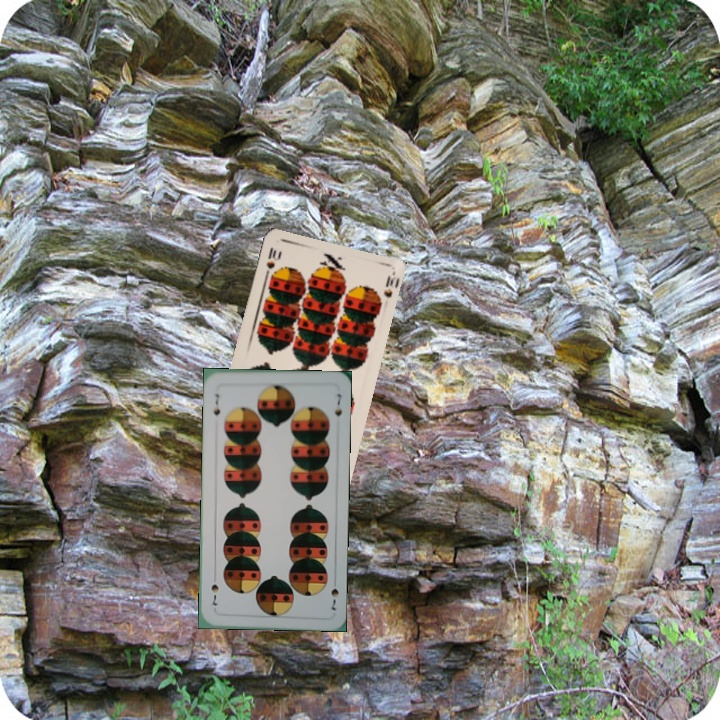S10: (260, 243, 282, 282)
S7: (326, 574, 341, 613), (209, 390, 223, 419)
